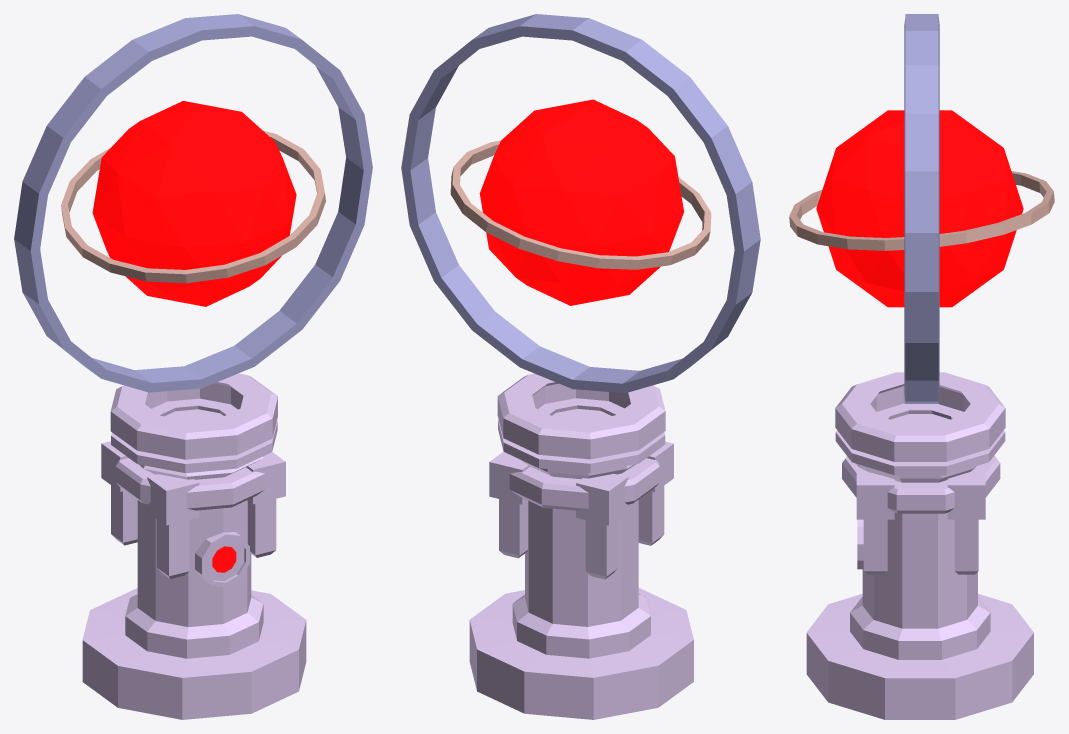
Rendered from 圆形遗迹.fbx.
3 views of the same model, side by side, from view 1: azimuth 30°, elevation 25°; view 2: azimuth 150°, elevation 25°; view 3: azimuth 270°, elevation 25° (orthographic).
Visible parts, largest first — view 1: Circle, Icosphere, Cylinder, Cylinder.005, Cube.001, Circle.001, Cube.002, Cylinder.001, Cube.003; view 2: Circle, Icosphere, Cylinder, Cylinder.005, Cube.003, Circle.001, Cube.004, Cube.001; view 3: Circle, Icosphere, Cylinder, Cylinder.005, Cube.004, Cube.002, Circle.001.
Part boxes in pixels (x1,y1,x2,y2): Circle: (82, 373, 306, 719); Icosphere: (92, 101, 296, 306); Cylinder: (14, 14, 372, 392); Cylinder.005: (61, 130, 325, 283); Cube.001: (147, 474, 199, 578); Circle.001: (115, 458, 265, 510); Cube.002: (246, 452, 285, 557); Cylinder.001: (195, 532, 249, 586); Cube.003: (101, 441, 137, 545); Circle: (469, 373, 693, 719); Icosphere: (479, 99, 683, 305); Cylinder: (401, 14, 760, 393); Cylinder.005: (450, 140, 711, 269); Cube.003: (576, 474, 628, 579); Circle.001: (509, 458, 659, 510); Cube.004: (489, 451, 529, 558); Cube.001: (638, 441, 673, 545); Circle: (806, 372, 1033, 719); Icosphere: (816, 110, 1023, 307); Cylinder: (904, 14, 939, 403); Cylinder.005: (789, 171, 1054, 250); Cube.004: (947, 469, 985, 574); Cube.002: (856, 469, 894, 574); Circle.001: (842, 455, 1000, 513).
Size of the model in its own units: 5307 by 9589 by 3589.
